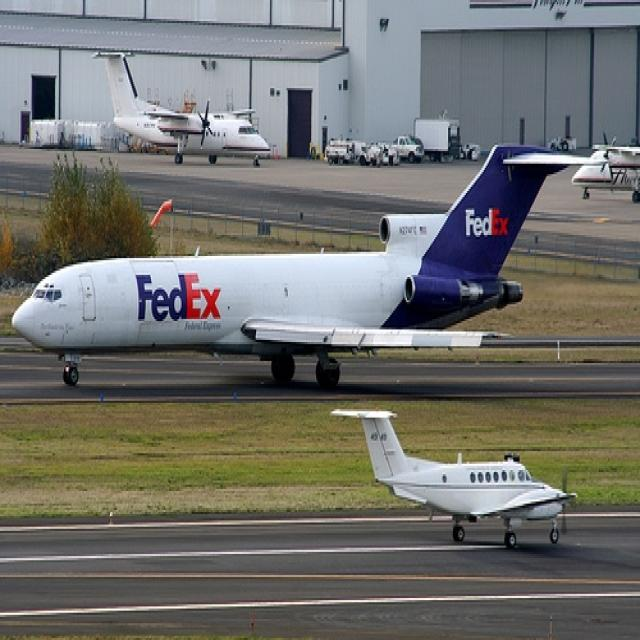fedex: (134, 270, 224, 326), (463, 203, 513, 243)
